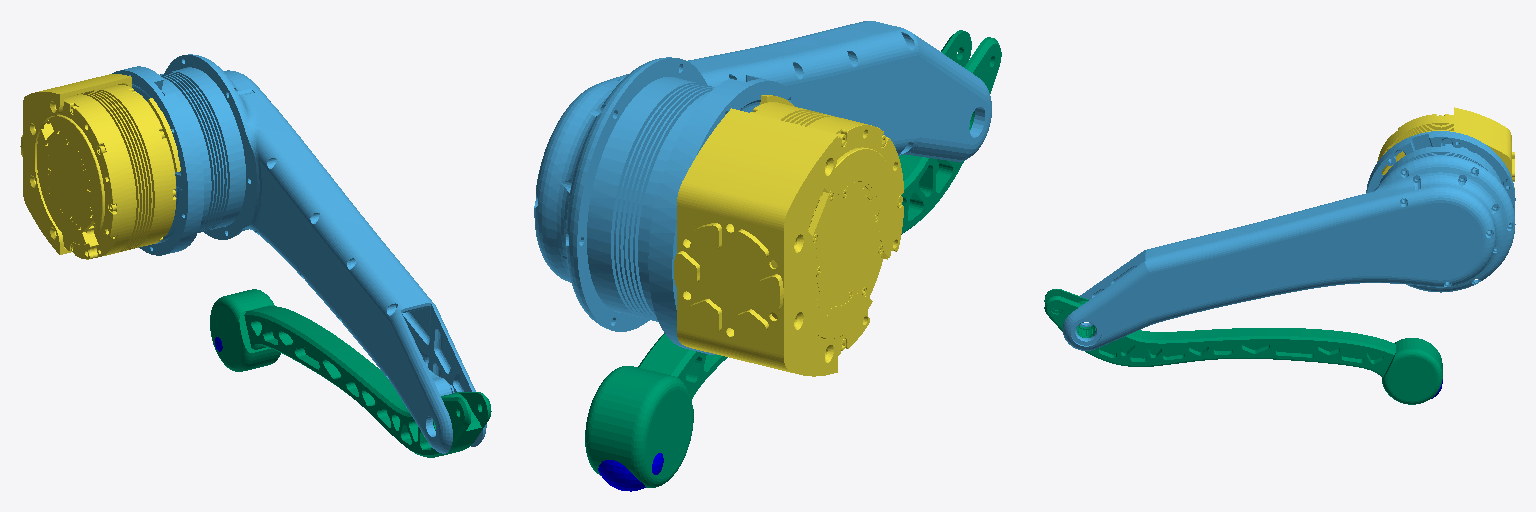
The robot description file, URDF, robot "quadruped_single_leg":
<?xml version="1.0" ?>
<robot name="quadruped_single_leg">

<link name="base_link">
  <inertial>
    <origin xyz="-5.5420912303816296e-12 -0.2499999999961581 4.006596938116685e-06" rpy="0 0 0"/>
    <mass value="5.037930"/>
    <inertia ixx="3.173265" iyy="1.230846" izz="4.15009" ixy="-0.000109" iyz="-0.0" ixz="-0.0"/>
  </inertial>
  <visual>
    <origin xyz="0 0 0" rpy="0 0 0"/>
    <geometry>
      <mesh filename="./meshes/base_link.stl" scale="0.001 0.001 0.001"/>
    </geometry>
    <material name="silver"/>
  </visual>
  <collision>
    <origin xyz="0 0 0" rpy="0 0 0"/>
    <geometry>
      <mesh filename="./meshes/base_link.stl" scale="0.001 0.001 0.001"/>
    </geometry>
  </collision>
</link>

<link name="thigh_link1_1">
  <inertial>
    <origin xyz="0.04502363244632551 -0.031771091037052335 -0.04857715639714248" rpy="0 0 0"/>
    <mass value="3.0252112588973517"/>
    <inertia ixx="0.029988" iyy="0.022358" izz="0.012123" ixy="0.002029" iyz="-0.011632" ixz="0.003098"/>
  </inertial>
  <visual>
    <origin xyz="-0.1374 0.611 -4e-06" rpy="0 0 0"/>
    <geometry>
      <mesh filename="./meshes/thigh_link1_1.stl" scale="0.001 0.001 0.001"/>
    </geometry>
    <material name="silver"/>
  </visual>
  <collision>
    <origin xyz="-0.1374 0.611 -4e-06" rpy="0 0 0"/>
    <geometry>
      <mesh filename="./meshes/thigh_link1_1.stl" scale="0.001 0.001 0.001"/>
    </geometry>
  </collision>
</link>

<link name="calf_link1_1">
  <inertial>
    <origin xyz="0.010992318900231252 0.08674844955210803 -0.13426644342648236" rpy="0 0 0"/>
    <mass value="1.2550937841787286"/>
    <inertia ixx="0.013917" iyy="0.009421" izz="0.00461" ixy="-1e-06" iyz="0.006339" ixz="2e-06"/>
  </inertial>
  <visual>
    <origin xyz="-0.1915 0.761 0.259804" rpy="0 0 0"/>
    <geometry>
      <mesh filename="./meshes/calf_link1_1.stl" scale="0.001 0.001 0.001"/>
    </geometry>
    <material name="silver"/>
  </visual>
  <collision>
    <origin xyz="-0.1915 0.761 0.259804" rpy="0 0 0"/>
    <geometry>
      <mesh filename="./meshes/calf_link1_1.stl" scale="0.001 0.001 0.001"/>
    </geometry>
  </collision>
</link>

<link name="hip_abduction4_1">urdf_assembly
  <inertial>
    <origin xyz="0.00043093322878925977 -0.04434611080961226 0.0009329537797818719" rpy="0 0 0"/>
    <mass value="1.48740161574237"/>
    <inertia ixx="0.003079" iyy="0.002006" izz="0.002141" ixy="4.7e-05" iyz="0.000112" ixz="-3.8e-05"/>
  </inertial>
  <visual>
    <origin xyz="-0.11 0.553 -4e-06" rpy="0 0 0"/>
    <geometry>
      <mesh filename="./meshes/hip_abduction4_1.stl" scale="0.001 0.001 0.001"/>
    </geometry>
    <material name="silver"/>
  </visual>
  <collision>
    <origin xyz="-0.11 0.553 -4e-06" rpy="0 0 0"/>
    <geometry>
      <mesh filename="./meshes/hip_abduction4_1.stl" scale="0.001 0.001 0.001"/>
    </geometry>
  </collision>
</link>


<!-- Foot Links and Joints -->
<link name="RR_foot">
  <inertial>
    <origin xyz="0 0 0" rpy="0 0 0"/>
    <mass value="0.01"/>
    <inertia ixx="1e-6" iyy="1e-6" izz="1e-6" ixy="0" iyz="0" ixz="0"/>
  </inertial>
  <visual>
    <origin xyz="0 0 0" rpy="0 0 0"/>
    <geometry>
      <sphere radius="0.015"/>
    </geometry>
    <material name="blue">
      <color rgba="0 0 1 1"/>
    </material>
  </visual>
  <collision>
    <origin xyz="0 0 0" rpy="0 0 0"/>
    <geometry>
      <sphere radius="0.015"/>
    </geometry>
  </collision>
</link>

<joint name="RR_foot_joint" type="continuous">
  <origin xyz="0.01 0.145 -0.24" rpy="-0.7 0 0"/>
  <parent link="calf_link1_1"/>
  <child link="RR_foot"/>
  <axis xyz="0 0 1"/>
  <limit velocity="2.0"/>
</joint>


<!-- Other Joints -->
<joint name="RR_thigh_joint" type="revolute">
  <origin xyz="0.0274 -0.058 0.0" rpy="-0.7708 0 0"/>
  <parent link="hip_abduction4_1"/>
  <child link="thigh_link1_1"/>
  <axis xyz="1.0 -0.0 0.0"/>
  <limit lower="-1.5708" upper="1.5708" effort="100.0" velocity="2.0"/>
</joint>


<joint name="RR_calf_joint" type="revolute">
  <origin xyz="0.0541 -0.15 -0.259808" rpy="1.608 0 0"/>
  <parent link="thigh_link1_1"/>
  <child link="calf_link1_1"/>
  <axis xyz="1.0 0.0 -0.0"/>
  <limit lower="-1.5708" upper="1.5708" effort="100.0" velocity="2.0"/>
</joint>


<joint name="RR_hip_joint" type="revolute">
  <origin xyz="0.11 -0.553 4e-06" rpy="0 0 0"/>
  <parent link="base_link"/>
  <child link="hip_abduction4_1"/>
  <axis xyz="-0.0 -1.0 -0.0"/>
  <limit lower="-0.7854" upper="0.7854" effort="100.0" velocity="2.0"/>
</joint>


</robot>

--- Render facts (derived) ---
The picture shows the robot from 3 angles, left to right: view 1: azimuth 30°, elevation 25°; view 2: azimuth 150°, elevation 25°; view 3: azimuth 270°, elevation 25°; orthographic projection.
Robot: quadruped_single_leg — 5 links, 4 joints (3 revolute, 1 continuous); root link base_link; default pose: every joint at zero.
Visible links, largest first — view 1: thigh_link1_1, hip_abduction4_1, calf_link1_1; view 2: thigh_link1_1, hip_abduction4_1, calf_link1_1, RR_foot; view 3: thigh_link1_1, calf_link1_1, hip_abduction4_1.
Link boxes in pixels (<box>): thigh_link1_1: <box>112,54,486,453</box>; hip_abduction4_1: <box>20,74,180,259</box>; calf_link1_1: <box>210,289,491,457</box>; thigh_link1_1: <box>534,21,991,354</box>; hip_abduction4_1: <box>674,95,903,376</box>; calf_link1_1: <box>585,30,1001,487</box>; RR_foot: <box>598,453,663,491</box>; thigh_link1_1: <box>1063,131,1515,350</box>; calf_link1_1: <box>1044,289,1442,404</box>; hip_abduction4_1: <box>1377,107,1514,187</box>.
Bounding box of the posed robot: 0.137 × 0.3837 × 0.2108 m (x, y, z).
3 mesh visuals loaded from 4 distinct referenced files (3 binary STL); not drawn: 1 (reference not matched to a file when rendering).
